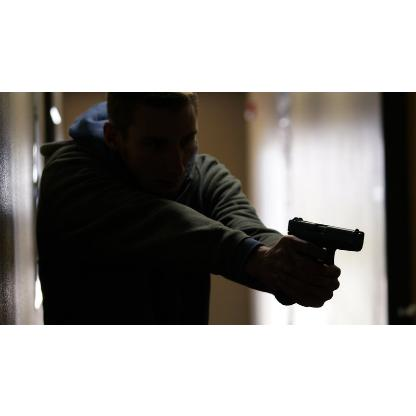gun: (284, 216, 364, 306)
